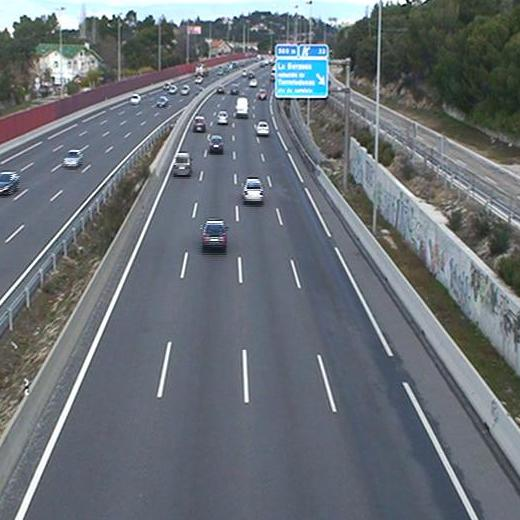car: (200, 219, 229, 247), (242, 177, 266, 203), (172, 153, 194, 176), (207, 135, 225, 153), (255, 121, 268, 135), (193, 116, 205, 131), (216, 111, 228, 124)
small-truck: (234, 98, 248, 116)
